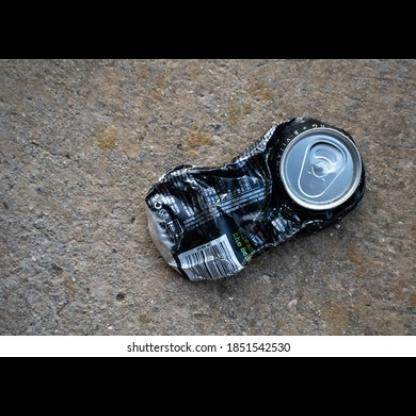Dent_Can: (152, 166, 290, 276)
Tin_Can: (139, 112, 372, 288)
